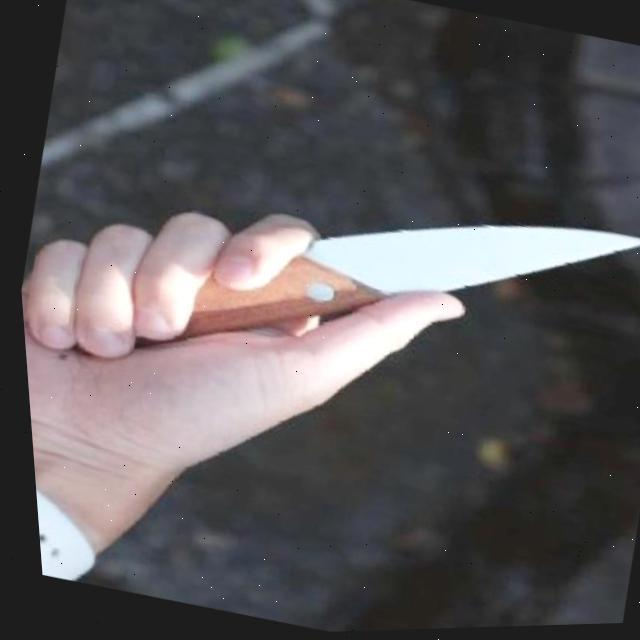knife: (111, 132, 640, 460)
